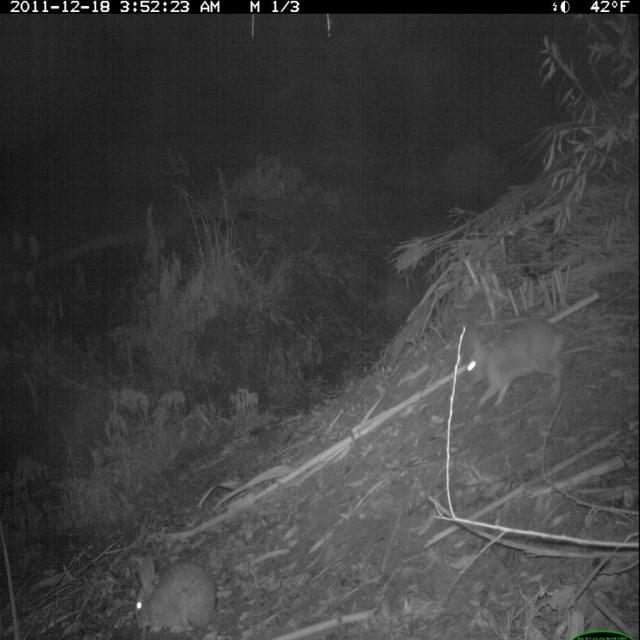rabbit: (452, 311, 578, 415), (128, 547, 223, 638)
